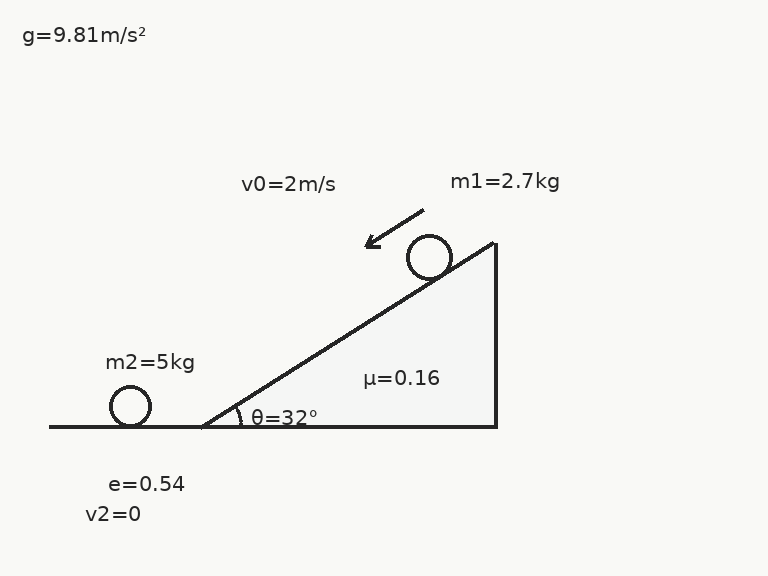ball: (404, 232, 454, 282), (107, 383, 153, 429)
ramp: (199, 242, 496, 429)
